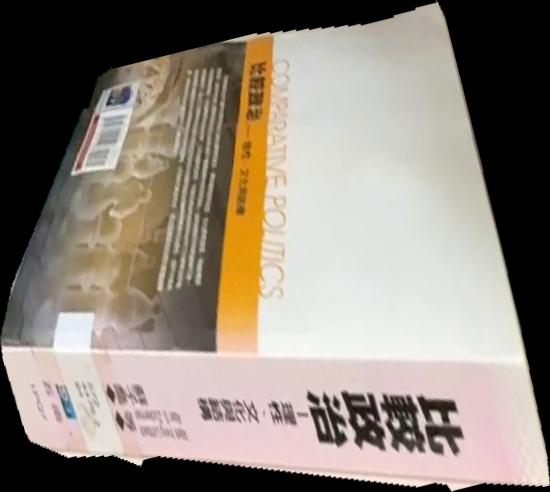flat: (1, 1, 550, 492)
